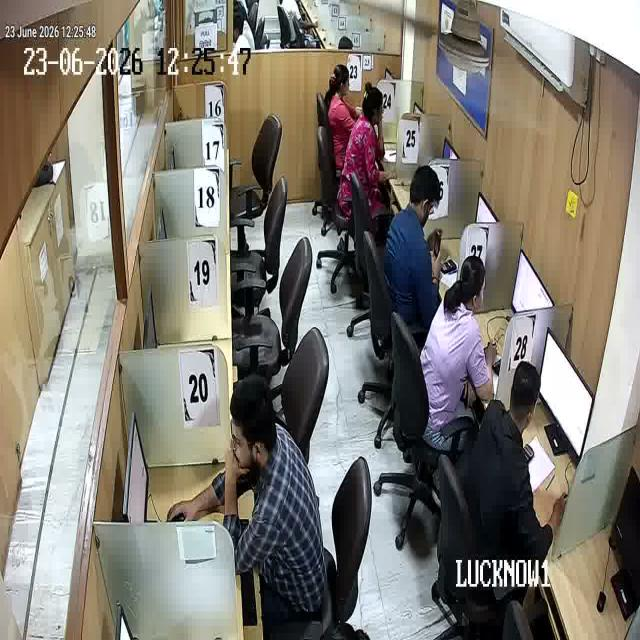phone: (429, 221, 448, 263)
